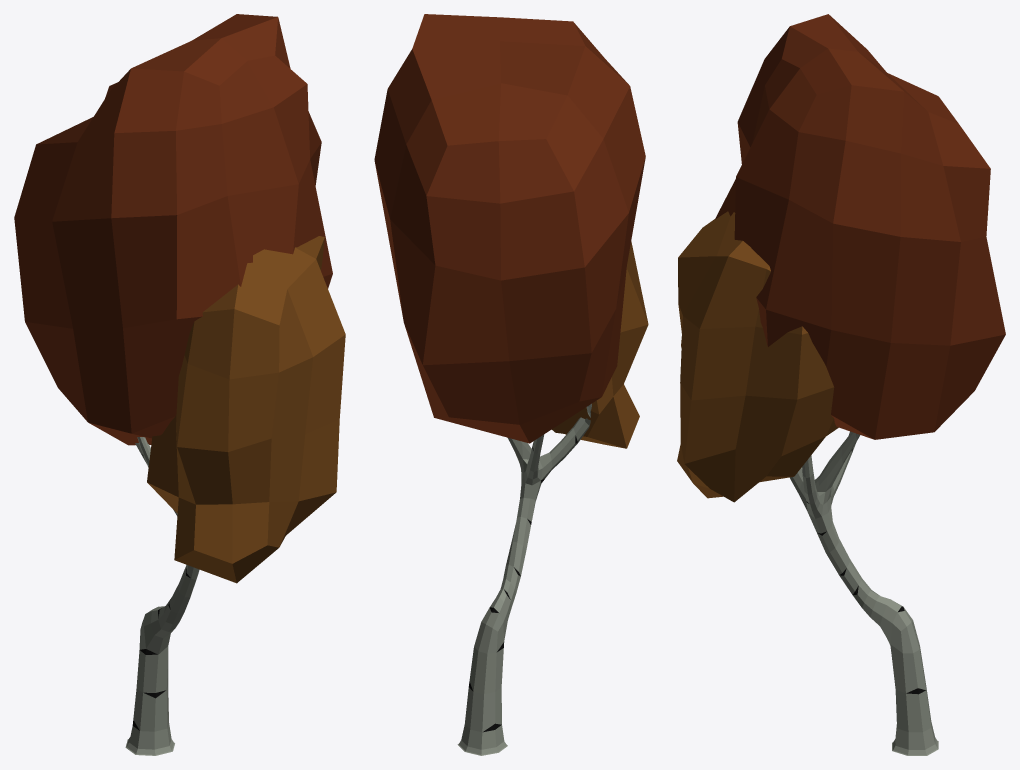
File: BirchTree_Autumn_2.obj
3 views of the same model, side by side, from view 1: azimuth 30°, elevation 25°; view 2: azimuth 150°, elevation 25°; view 3: azimuth 270°, elevation 25° (orthographic). The views are drawn at different scales.
Visible parts, largest first — view 1: BirchTree_Autumn_2_Cube.083; view 2: BirchTree_Autumn_2_Cube.083; view 3: BirchTree_Autumn_2_Cube.083.
Boxes of the visible parts, x1,y1,x2,y2 form: BirchTree_Autumn_2_Cube.083: (14,14,345,755); BirchTree_Autumn_2_Cube.083: (374,14,648,755); BirchTree_Autumn_2_Cube.083: (677,14,1005,755).
Bounding box in the file's own units: 1.47 × 4.03 × 1.69.
